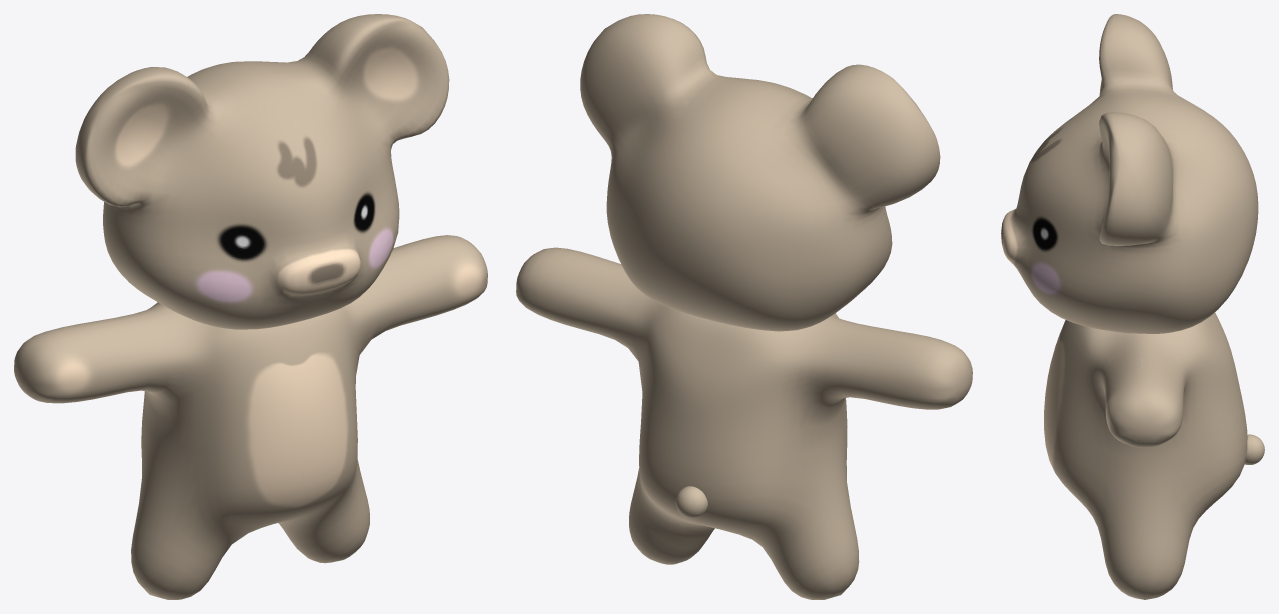
File: cubbear.fbx
The picture shows the model from 3 angles, left to right: view 1: azimuth 30°, elevation 25°; view 2: azimuth 150°, elevation 25°; view 3: azimuth 270°, elevation 25°; orthographic projection. The views are drawn at different scales.
Parts seen in each view (by area): view 1: head 2, Roundcube.009; view 2: head 2, Roundcube.009, Roundcube.010; view 3: head 2, Roundcube.009, Roundcube.010.
Part boxes in pixels (x1,y1,x2,y2): head 2: [75, 14, 449, 329]; Roundcube.009: [14, 235, 487, 599]; head 2: [580, 14, 940, 331]; Roundcube.009: [516, 247, 972, 599]; Roundcube.010: [675, 486, 707, 518]; head 2: [1001, 14, 1258, 333]; Roundcube.009: [1044, 312, 1247, 599]; Roundcube.010: [1245, 434, 1264, 464].
Size of the model in its own units: 110 by 125 by 60.55.
Materials: 2 (2 with a texture image).
